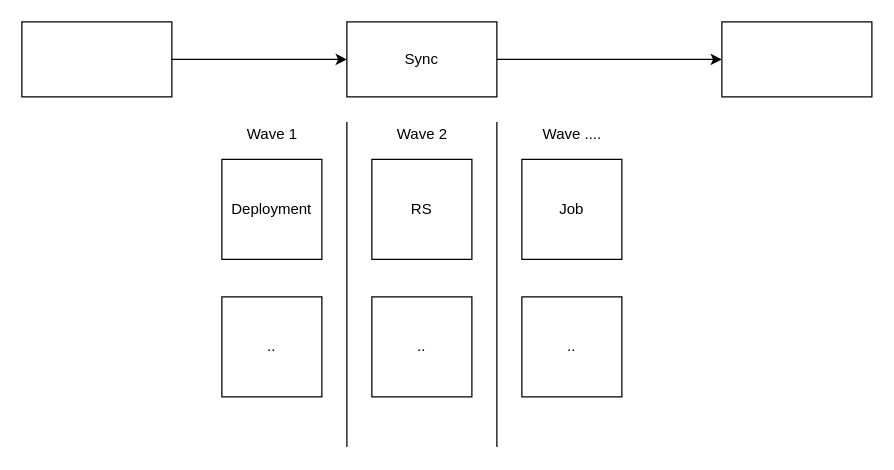
Some shapes in this 894 by 470 pixel diagram are drawn without their labels. The shapes that lost their labels are listed below. From the top down, each one's centre as x and y in pixels, then its label:
At (96,59): "Pre-sync".
At (796,59): "Post-sync".
